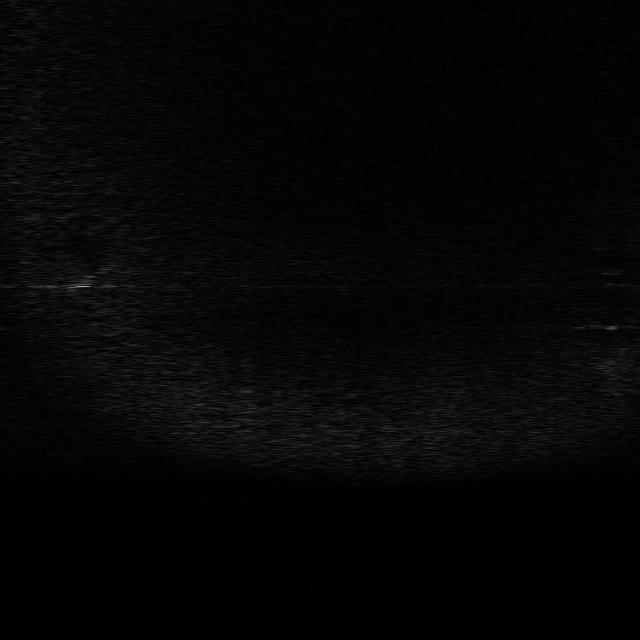plane: (310, 151, 369, 179)
